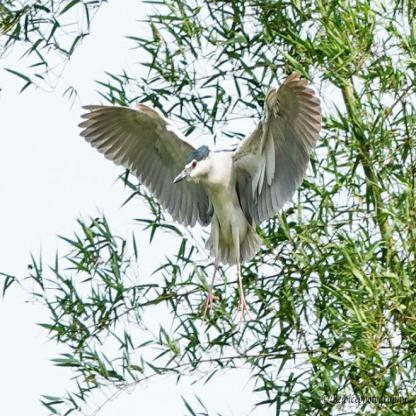Burung: (78, 71, 325, 321)
